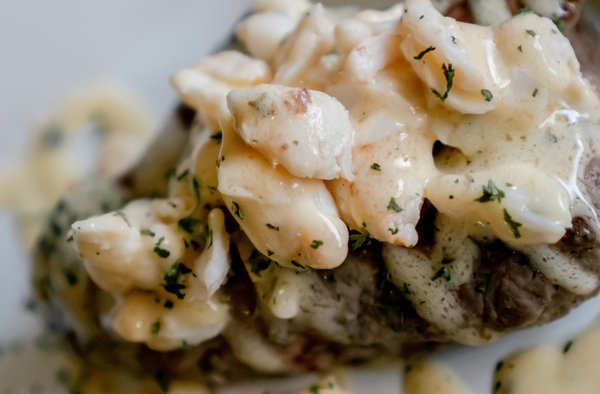soup: (34, 0, 600, 382)
